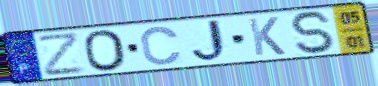C: (139, 24, 184, 67)
J: (190, 18, 233, 65)
K: (246, 16, 288, 57)
O: (81, 28, 130, 73)
S: (288, 10, 340, 56)
Z: (36, 30, 87, 78)
